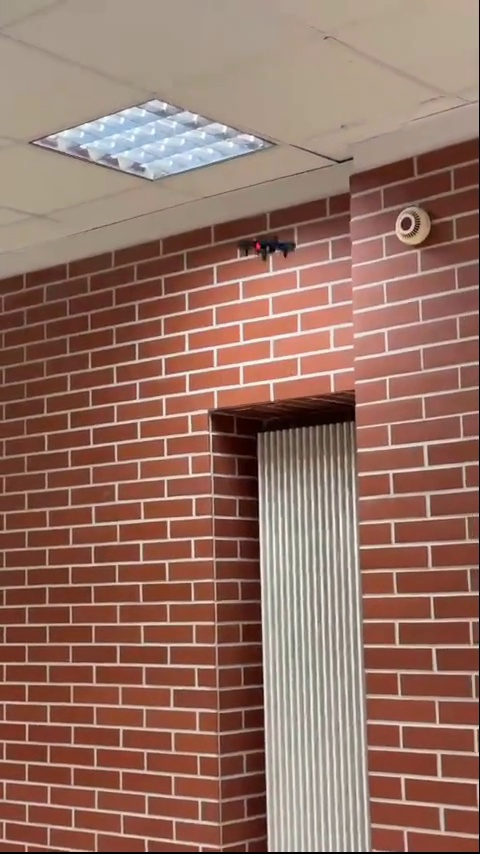drone: (237, 235, 297, 259)
